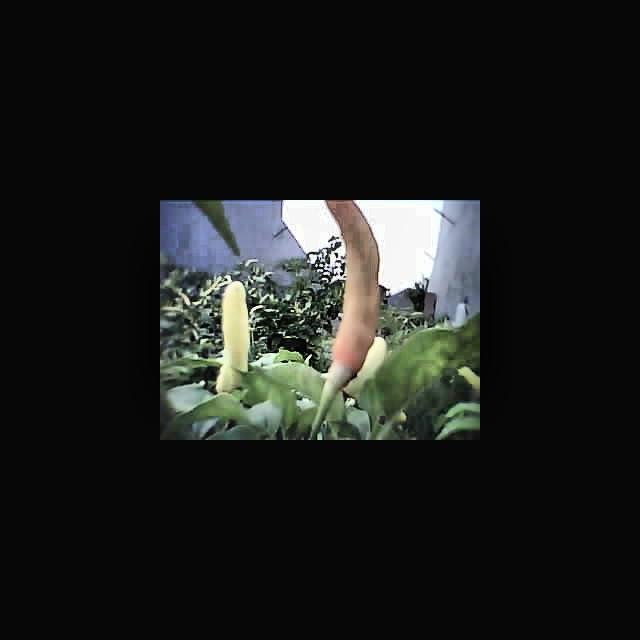Cabai: (321, 200, 392, 379)
